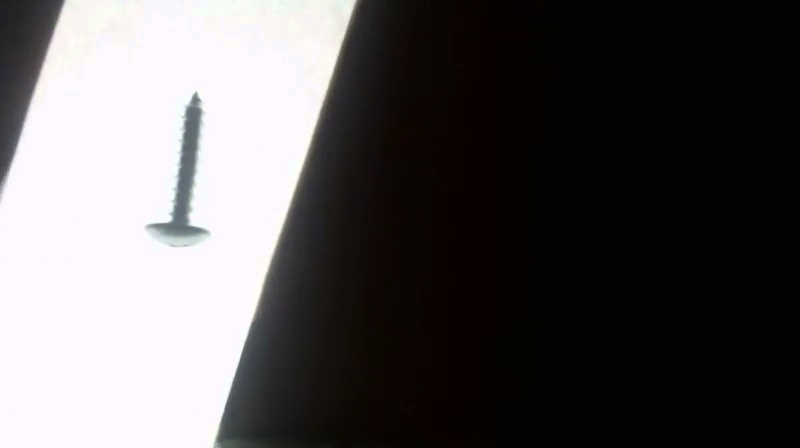S003: (141, 90, 215, 250)
